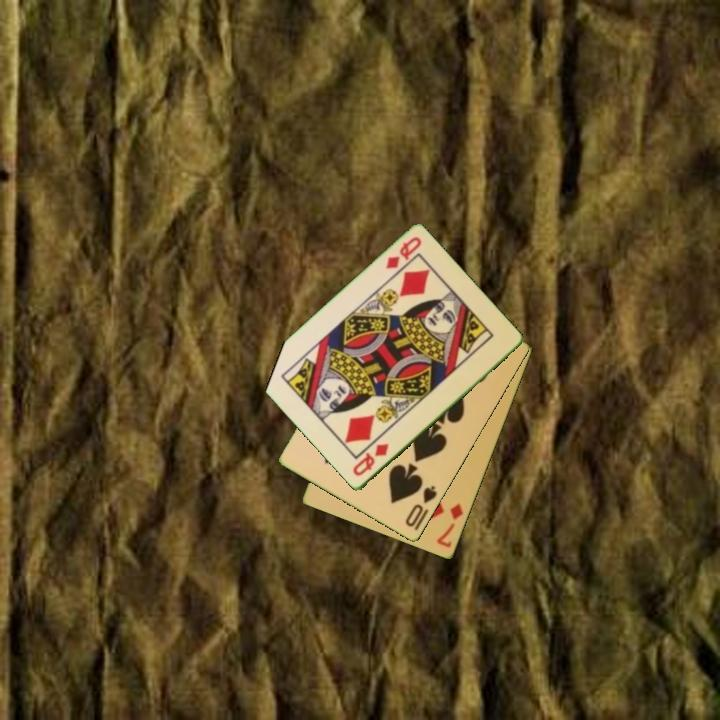10s: (402, 482, 440, 530)
7d: (433, 500, 466, 551)
Qd: (349, 440, 392, 479), (382, 234, 424, 273)
